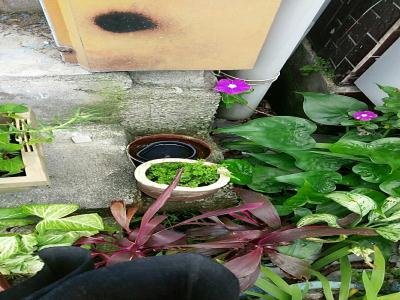bowl: (132, 156, 233, 203), (123, 132, 214, 167)
